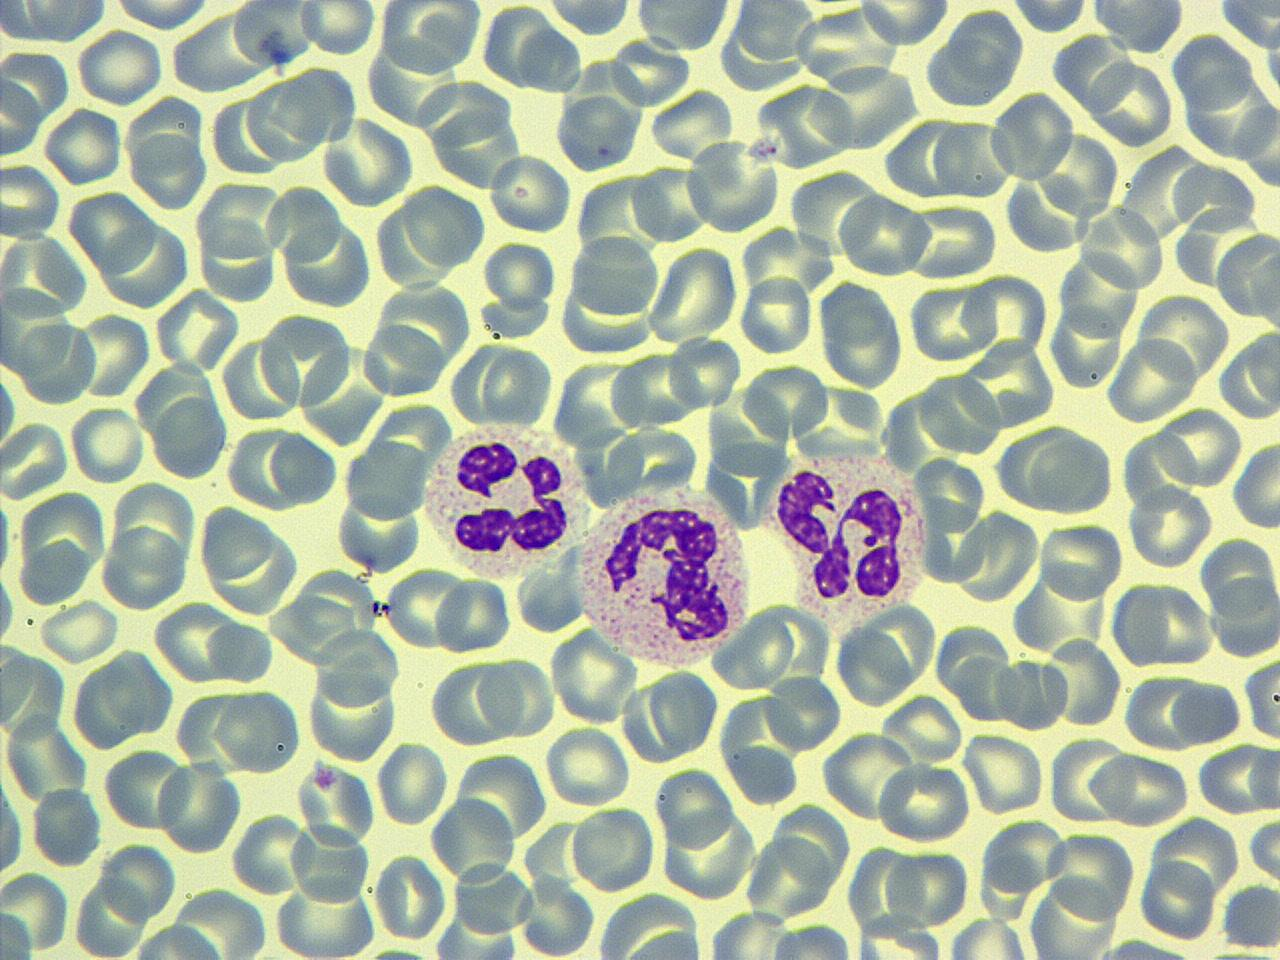Platelets: (366, 940, 430, 960)
RBC: (197, 502, 302, 613), (815, 278, 907, 388), (683, 136, 783, 234), (319, 113, 416, 210), (646, 244, 740, 344), (258, 311, 352, 408), (660, 806, 758, 898), (548, 626, 638, 726), (278, 220, 378, 308), (820, 728, 915, 820), (757, 80, 856, 167), (273, 876, 379, 958), (1074, 202, 1168, 293), (1048, 825, 1136, 923), (744, 830, 836, 922), (1105, 334, 1197, 425), (552, 356, 646, 446), (700, 438, 792, 528), (836, 191, 930, 278), (213, 686, 303, 776), (429, 792, 518, 884), (902, 198, 1000, 281), (334, 485, 424, 575), (963, 270, 1050, 363), (4, 710, 89, 806), (570, 230, 660, 320), (1084, 57, 1174, 147), (376, 0, 484, 75), (153, 284, 241, 376), (990, 89, 1076, 182), (156, 760, 242, 854), (1090, 750, 1192, 828), (430, 656, 517, 748), (571, 802, 657, 894), (1128, 578, 1215, 668), (101, 522, 190, 610), (343, 434, 429, 524), (1026, 878, 1122, 960), (294, 756, 376, 852), (878, 760, 971, 844), (1025, 430, 1115, 515), (152, 599, 243, 684), (1047, 733, 1131, 825), (1038, 128, 1120, 222), (245, 72, 328, 163), (75, 25, 166, 108), (1058, 250, 1140, 343), (862, 598, 940, 694), (73, 309, 152, 402), (1126, 482, 1212, 568), (959, 730, 1046, 816), (400, 181, 484, 269), (544, 724, 632, 808), (1036, 520, 1124, 604), (742, 360, 830, 443), (907, 282, 997, 364), (1044, 634, 1122, 728), (102, 746, 186, 832), (1156, 405, 1242, 490), (488, 151, 572, 237), (918, 369, 1002, 456), (383, 564, 466, 650), (1136, 853, 1218, 941), (931, 113, 1015, 198), (655, 762, 736, 850), (231, 808, 307, 898), (100, 648, 175, 740), (373, 850, 447, 943), (712, 610, 796, 692), (885, 846, 972, 926), (263, 181, 342, 268), (922, 36, 1018, 108), (375, 738, 450, 830), (44, 104, 126, 188), (360, 320, 444, 400), (1048, 301, 1124, 390), (99, 838, 177, 924), (480, 653, 558, 739), (835, 620, 911, 708), (555, 94, 639, 173), (738, 270, 815, 356), (153, 393, 228, 482), (631, 159, 711, 242), (762, 670, 842, 752), (647, 86, 733, 162), (286, 62, 360, 149), (648, 666, 720, 755), (452, 859, 533, 938), (911, 452, 987, 536), (68, 402, 145, 484), (882, 690, 965, 766), (519, 872, 595, 956), (480, 344, 554, 429), (131, 128, 208, 210), (30, 784, 105, 867), (229, 0, 321, 68), (1208, 575, 1280, 659), (481, 236, 558, 314), (1196, 740, 1276, 816), (1214, 227, 1278, 322), (436, 574, 511, 654), (666, 332, 742, 410), (995, 654, 1069, 734), (630, 0, 734, 55), (0, 417, 70, 500), (268, 428, 338, 506), (1087, 1, 1185, 56), (39, 599, 118, 664), (0, 0, 111, 44), (0, 160, 62, 239), (205, 616, 275, 686), (1229, 436, 1279, 532), (296, 0, 379, 57), (854, 0, 949, 49), (853, 910, 948, 958), (1172, 678, 1242, 743), (516, 24, 582, 94), (1221, 878, 1279, 954), (706, 909, 792, 959), (946, 914, 1032, 960), (1237, 98, 1279, 192), (0, 71, 43, 160), (132, 922, 227, 960), (1244, 648, 1280, 746), (106, 0, 216, 32), (768, 921, 856, 960), (546, 0, 638, 37), (1007, 0, 1093, 35), (1247, 740, 1280, 817), (1246, 814, 1280, 886)
WBC: (574, 490, 753, 671), (772, 449, 918, 616), (434, 428, 579, 580), (558, 89, 642, 168), (449, 861, 535, 937)
